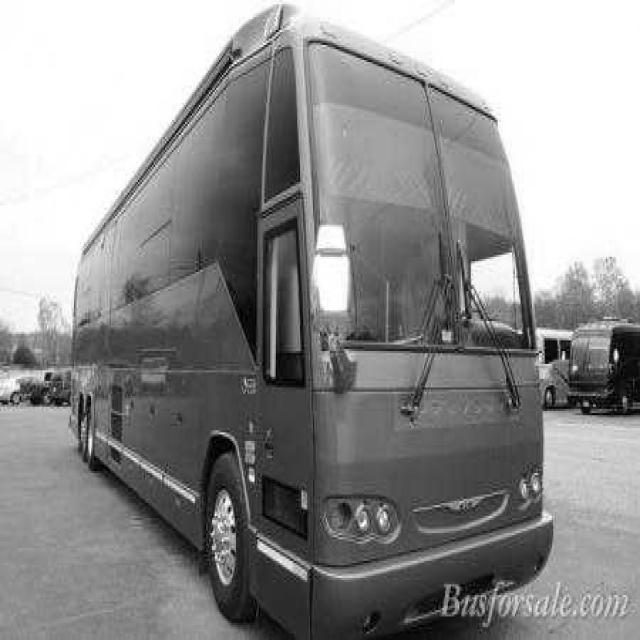Bus: (70, 8, 553, 638)
